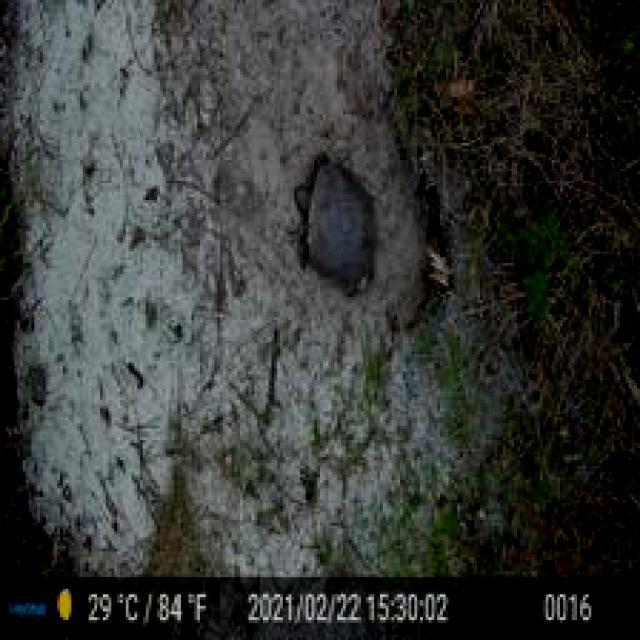tortoise: (289, 149, 381, 297)
